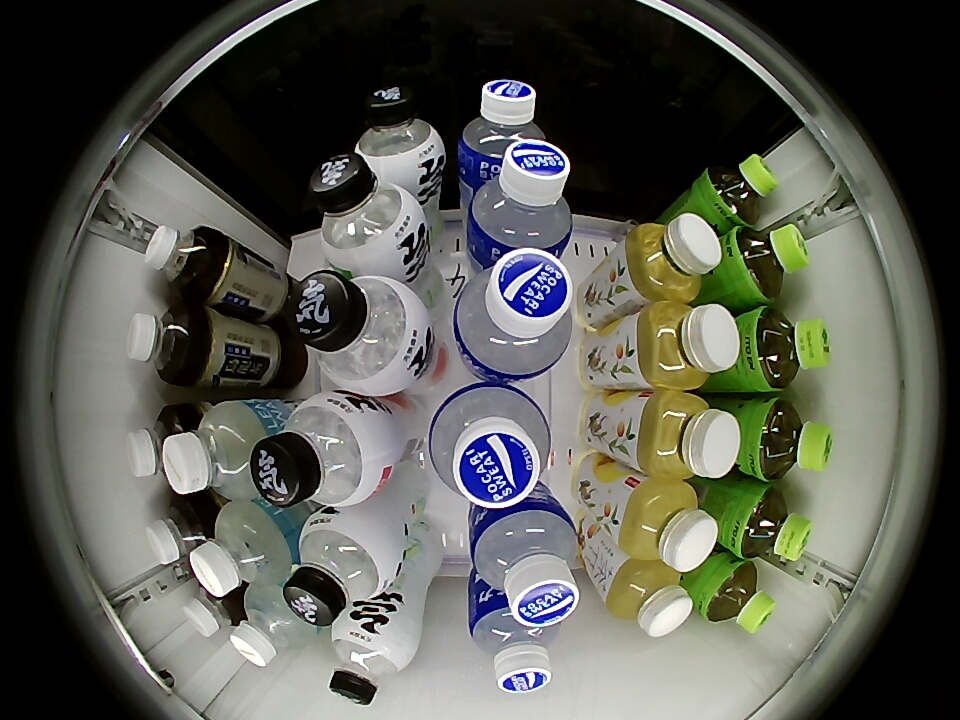baokuangli: (452, 248, 575, 383), (427, 382, 552, 508), (470, 500, 581, 628), (467, 139, 574, 259), (457, 79, 547, 177), (470, 594, 555, 694)
chapai2: (618, 479, 718, 572), (638, 390, 740, 481), (637, 301, 739, 391), (626, 214, 722, 302), (604, 559, 694, 637)
qinningshui: (163, 400, 270, 500), (190, 501, 295, 596), (230, 584, 315, 667)
wulongcha: (126, 305, 199, 385), (144, 225, 217, 296), (126, 406, 185, 480), (146, 499, 210, 565), (183, 586, 240, 638)
yitengyuan: (746, 308, 831, 392), (748, 397, 833, 481), (726, 223, 810, 305), (731, 484, 812, 563), (700, 153, 777, 229), (700, 559, 776, 634)
yuanqishui: (292, 271, 429, 396), (249, 393, 392, 509), (310, 153, 425, 275), (282, 509, 399, 627), (355, 85, 446, 184), (328, 611, 419, 705)
